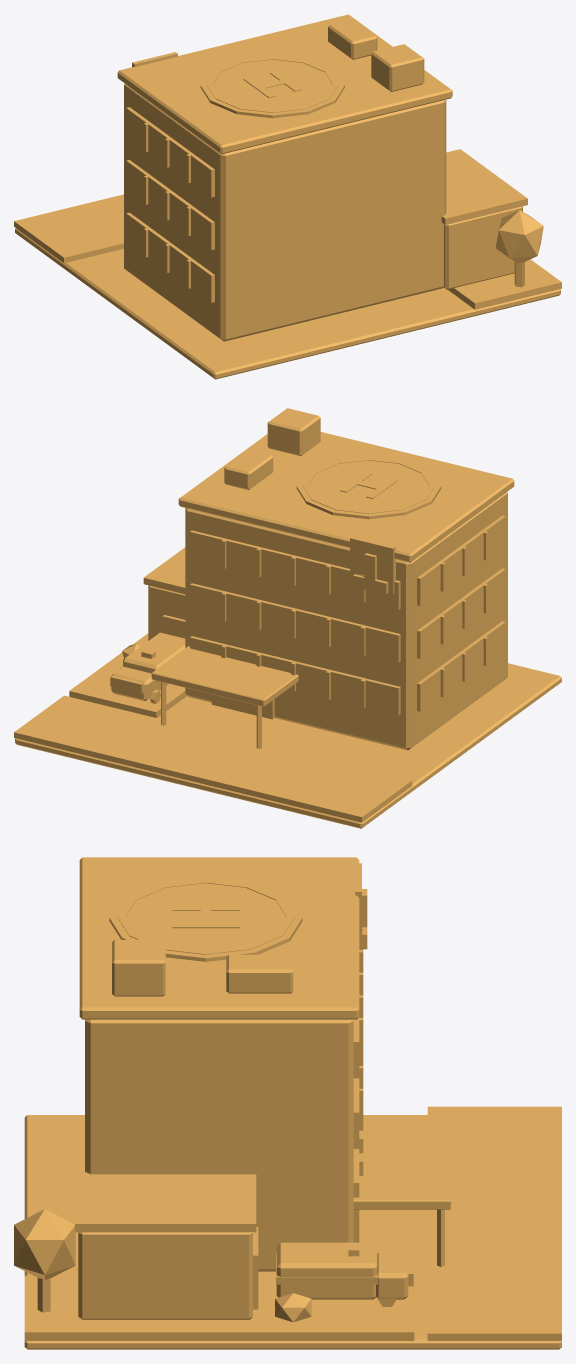
3 views of the same model, one above another, from view 1: azimuth 30°, elevation 25°; view 2: azimuth 150°, elevation 25°; view 3: azimuth 270°, elevation 25° (orthographic). The views are drawn at different scales.
Parts seen in each view (by area): view 1: corpo; view 2: corpo; view 3: corpo.
Part boxes in pixels (<box>): corpo: <box>14,14,561,379</box>; corpo: <box>14,408,561,828</box>; corpo: <box>14,857,561,1349</box>.
Size of the model in its own units: 4 by 2.64 by 4.08.
